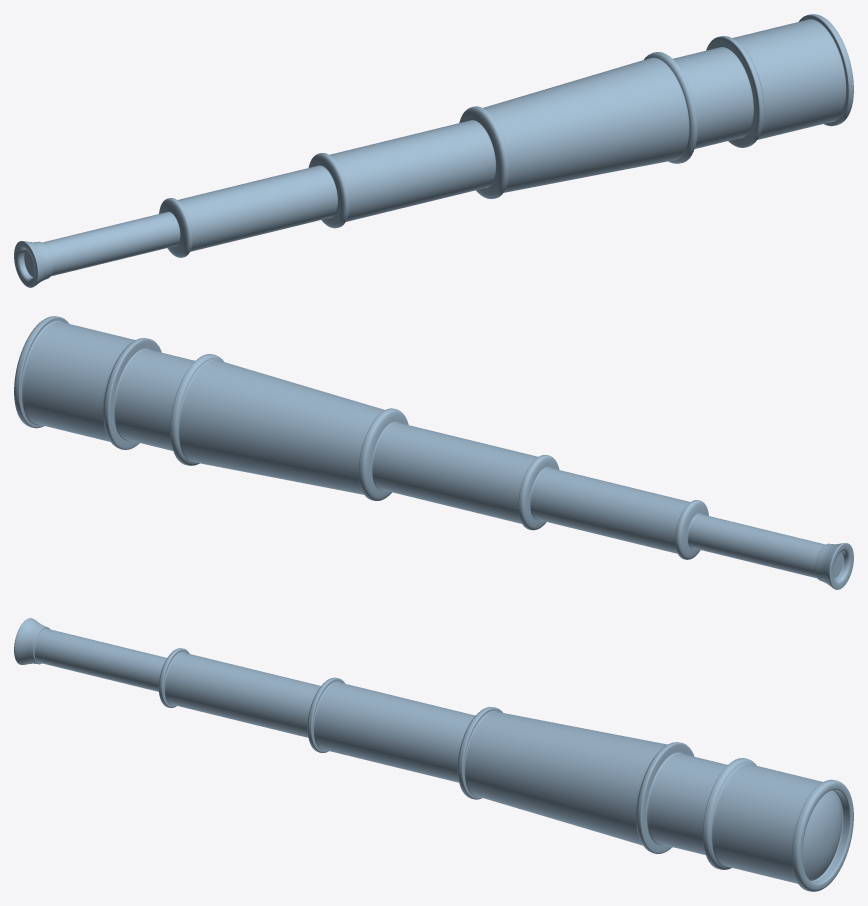
Rendered from telescope.gltf.
3 views of the same model, one above another, from view 1: azimuth 30°, elevation 25°; view 2: azimuth 150°, elevation 25°; view 3: azimuth 330°, elevation 25° (orthographic).
Parts seen in each view (by area): view 1: Telescope; view 2: Telescope; view 3: Telescope.
Boxes of the visible parts, box(x1,y1,x2,y2) form: Telescope: box(14, 14, 853, 287); Telescope: box(14, 316, 853, 589); Telescope: box(14, 618, 853, 891).
Bounding box in the file's own units: 14.98 × 1.84 × 1.84.
